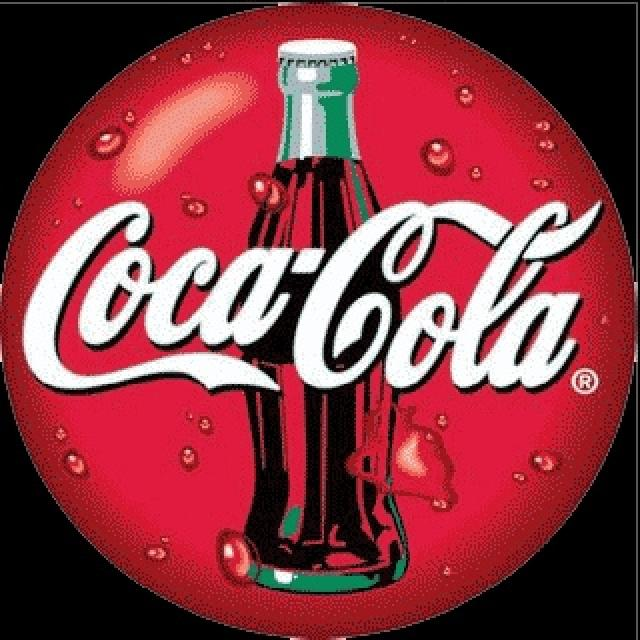cocacola: (7, 173, 619, 413)
